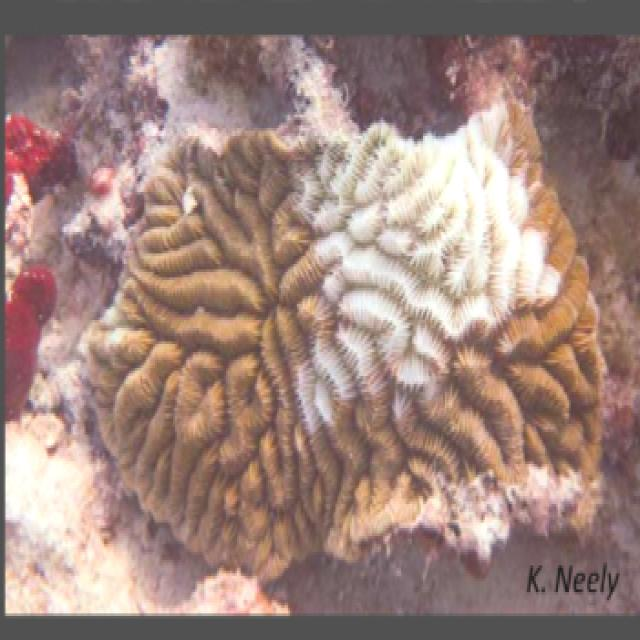Coral: (77, 99, 610, 589)
